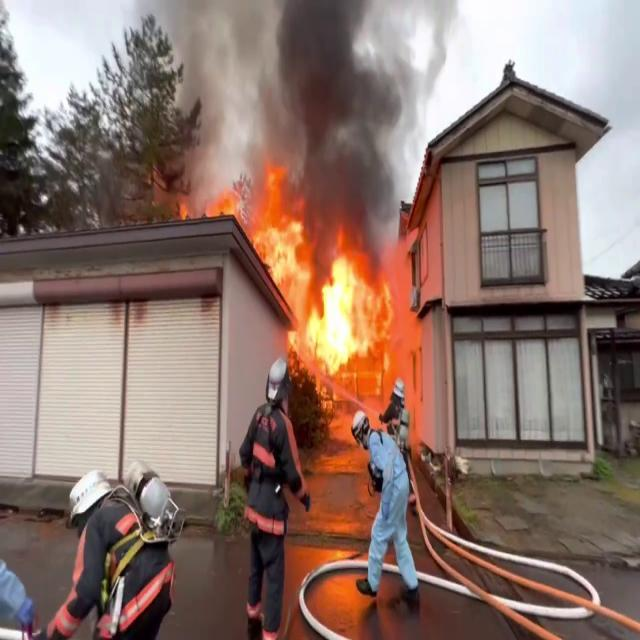Fire: (251, 170, 398, 384)
Smoke: (168, 1, 434, 200)
